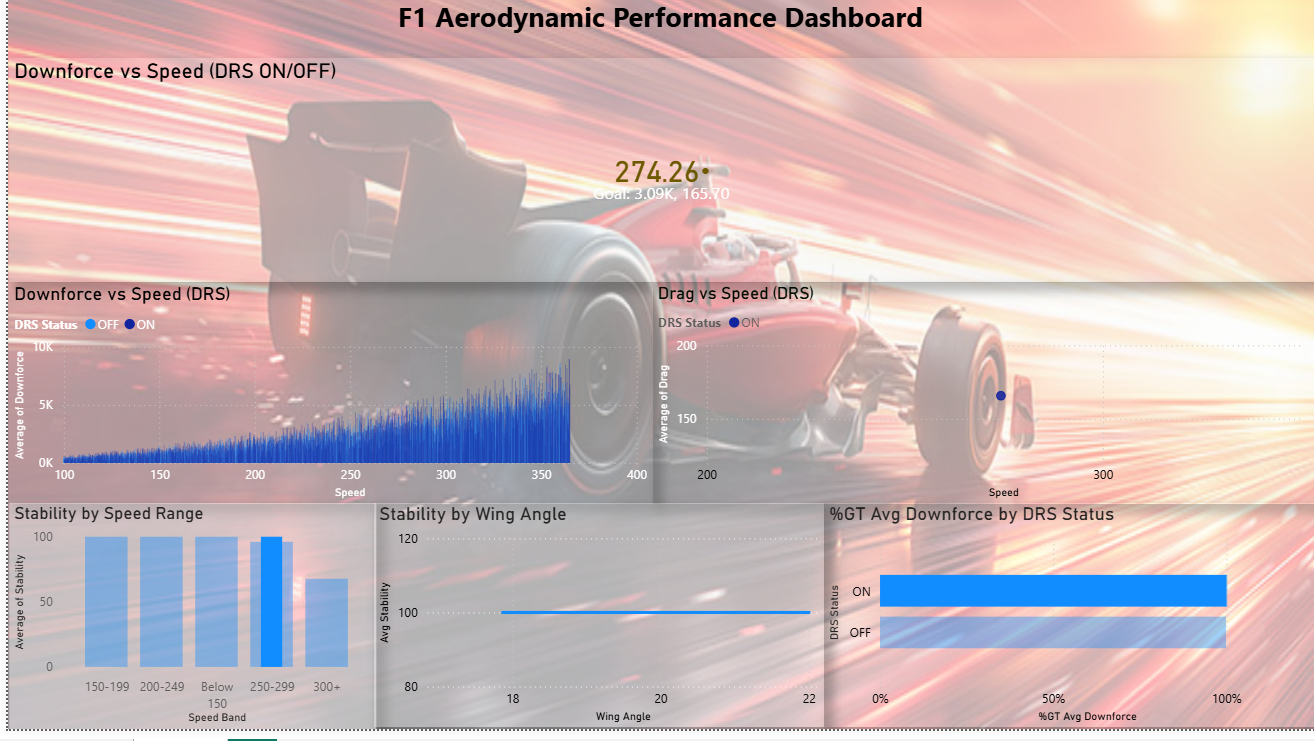

This screenshot's page, from the dashboard's own definition file:
{"tool":"powerbi","page":{"name":"Page 1","canvas":[1280,720],"ordinal":0},"visuals":[{"type":"kpi","title":"Downforce vs Speed (DRS ON/OFF)","fields":{"TrendLine":["actaruslab_f1_telemetry_2026.DRS Status"],"Indicator":["actaruslab_f1_telemetry_2026.Avg Speed"],"Goal":["actaruslab_f1_telemetry_2026.Avg Downforce","actaruslab_f1_telemetry_2026.Avg Drag"]},"box":[1.2,63.9,1278.8,219.6],"z":0},{"type":"clusteredColumnChart","title":"Downforce vs Speed (DRS)","fields":{"Category":["actaruslab_f1_telemetry_2026.Speed"],"Series":["actaruslab_f1_telemetry_2026.DRS Status"],"Y":["Avg(actaruslab_f1_telemetry_2026.Downforce)"]},"box":[1.2,283.5,629.8,216],"z":1000},{"type":"scatterChart","title":"Drag vs Speed (DRS)","fields":{"Series":["actaruslab_f1_telemetry_2026.DRS Status"],"X":["actaruslab_f1_telemetry_2026.Speed"],"Y":["Avg(actaruslab_f1_telemetry_2026.Drag)"]},"box":[631,283.5,649.1,216],"z":2000},{"type":"barChart","fields":{"Category":["actaruslab_f1_telemetry_2026.DRS Status"],"Y":["actaruslab_f1_telemetry_2026.Avg Downforce"]},"box":[798.7,499.5,481.4,219.6],"z":3000},{"type":"clusteredColumnChart","title":"Stability by Speed Range","fields":{"Y":["Avg(actaruslab_f1_telemetry_2026.Stability)"],"Category":["actaruslab_f1_telemetry_2026.Speed Band"]},"box":[1.2,498.9,359.5,221.3],"z":4000},{"type":"lineChart","title":"Stability by Wing Angle","fields":{"Category":["actaruslab_f1_telemetry_2026.Wing Angle"],"Y":["actaruslab_f1_telemetry_2026.Avg Stability"]},"box":[358.3,500.1,440.2,220.1],"z":5000},{"type":"textbox","box":[100.1,0,1076.1,63.9],"z":6000}]}

Visuals, with their boxes in screenshot pixels (x1, y1, x2, y2), scaled from the page's 1280x720 canvas onto the 1314x741 screenshot:
"Downforce vs Speed (DRS ON/OFF)" kpi: pyautogui.locateOnScreen(1, 66, 1313, 292)
"Downforce vs Speed (DRS)" clusteredColumnChart: pyautogui.locateOnScreen(1, 292, 648, 514)
"Drag vs Speed (DRS)" scatterChart: pyautogui.locateOnScreen(648, 292, 1313, 514)
barChart - actaruslab_f1_telemetry_2026.DRS Status x actaruslab_f1_telemetry_2026.Avg Downforce: pyautogui.locateOnScreen(820, 514, 1313, 740)
"Stability by Speed Range" clusteredColumnChart: pyautogui.locateOnScreen(1, 513, 370, 740)
"Stability by Wing Angle" lineChart: pyautogui.locateOnScreen(368, 515, 820, 740)
textbox: pyautogui.locateOnScreen(103, 0, 1207, 66)
